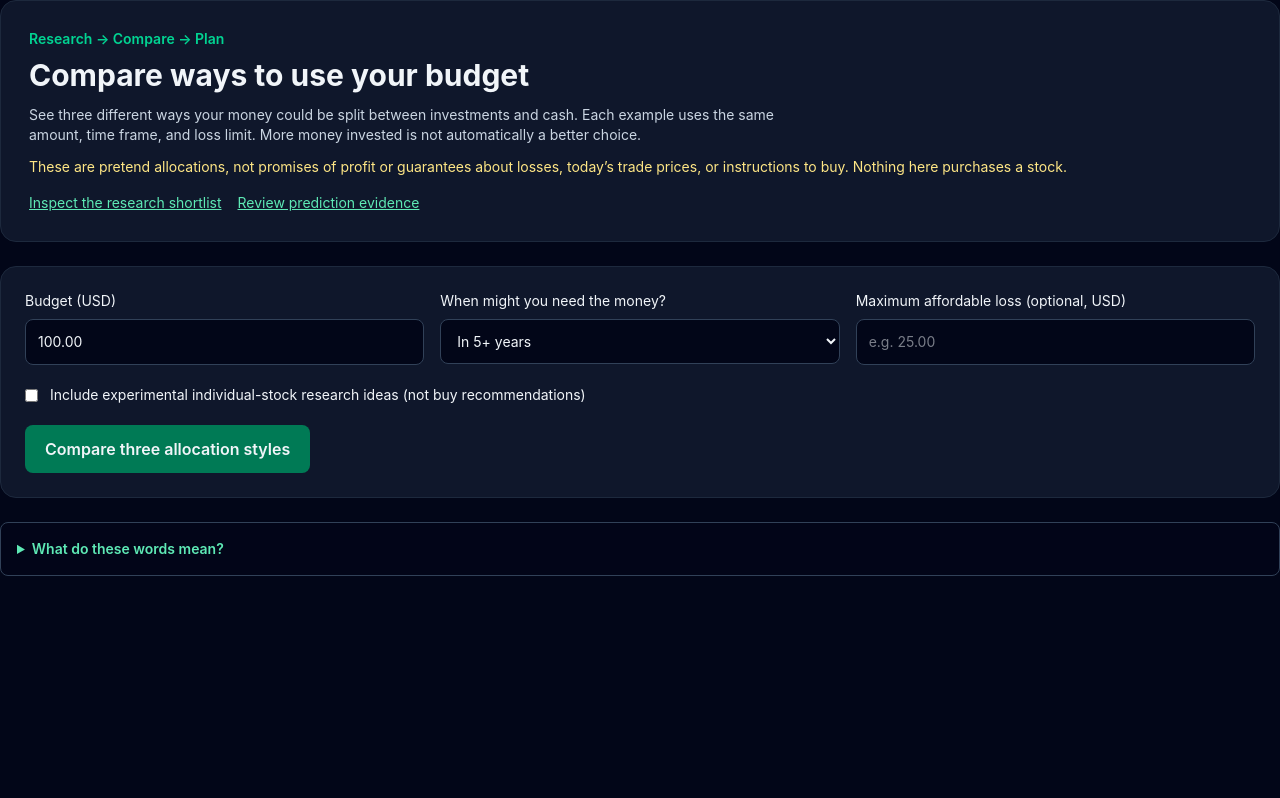
Test: Budget Comparison Workspace › shows three consistent dollar outcomes and links to the full planner
Click the button "Compare three allocation styles" at [168, 449], box [25,425,310,473]
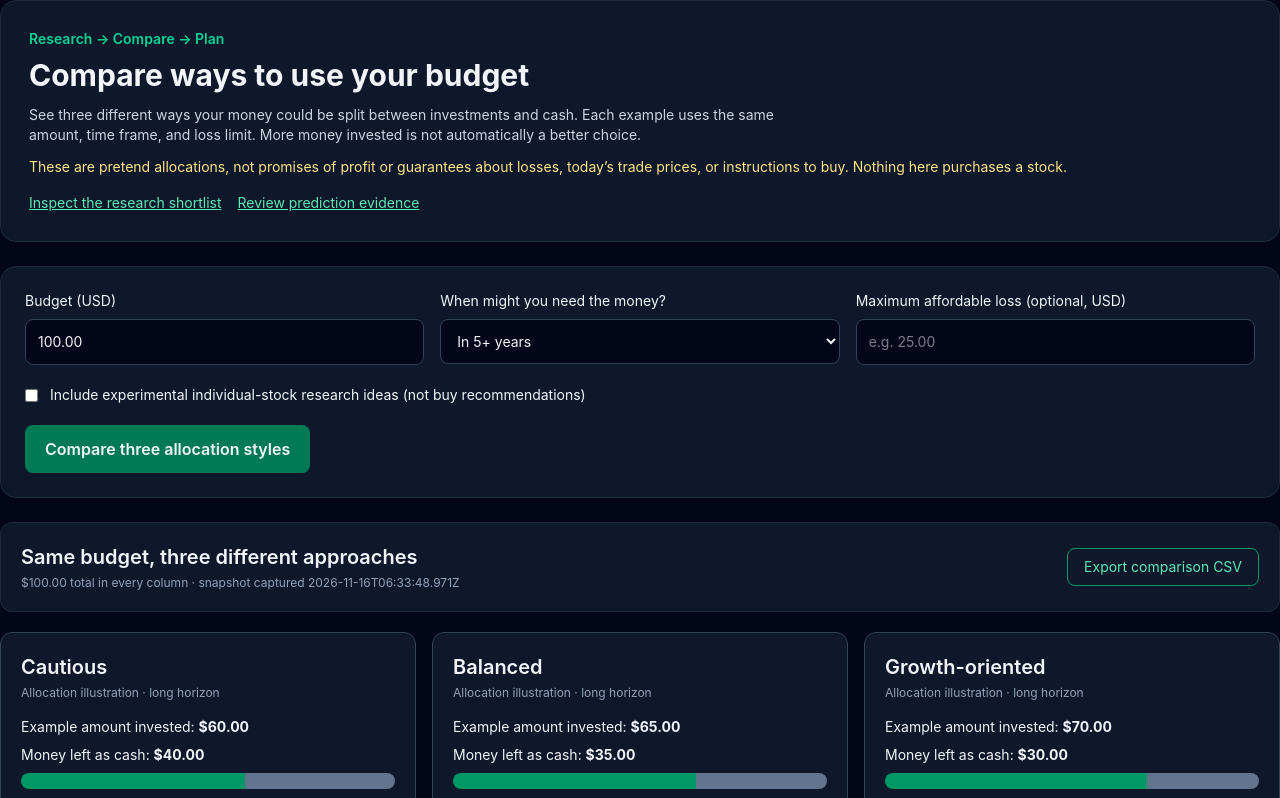
Expected: the text "$100.00 total in every column" is shown, [21,575,460,591]
Expected: the text "Money left as cash:" is shown 3 times, [21,746,204,763]; [453,746,635,763]; [885,746,1068,763]
